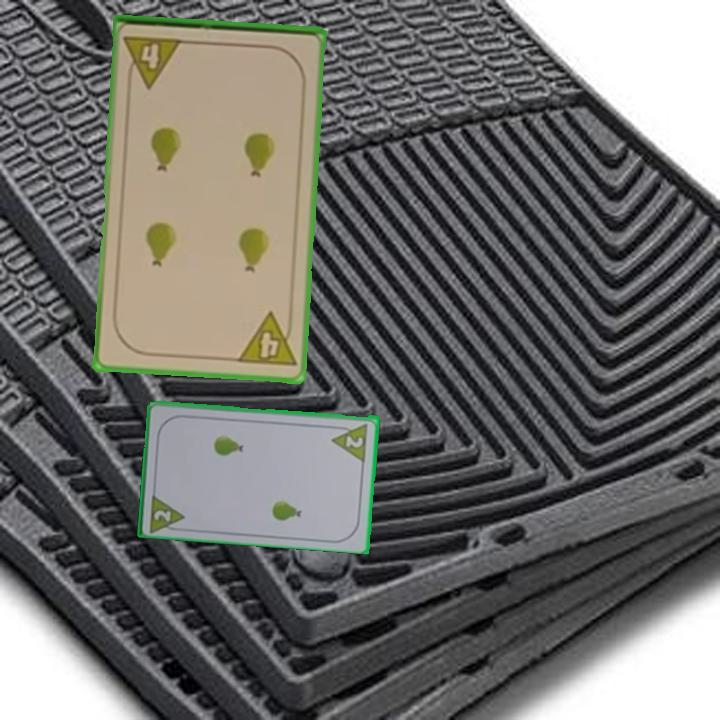2p: (146, 489, 188, 534), (329, 420, 371, 463)
4p: (233, 309, 299, 370), (120, 32, 186, 91)
